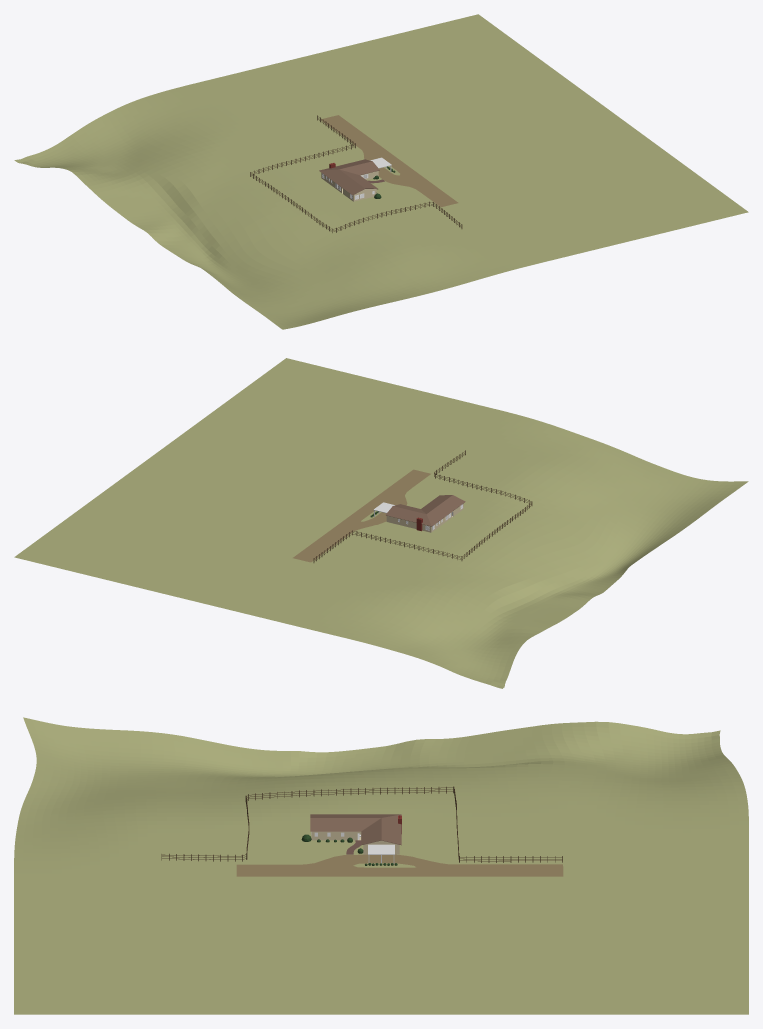
File: house_test02.glb
3 views of the same model, one above another, from view 1: azimuth 30°, elevation 25°; view 2: azimuth 150°, elevation 25°; view 3: azimuth 270°, elevation 25° (orthographic). The views are drawn at different scales.
Parts seen in each view (by area): view 1: Ground, Road, BézierCurve, Roof; view 2: Ground, Road, BézierCurve, Roof; view 3: Ground, Road, Roof, BézierCurve, Walls.
Part boxes in pixels (<box>): Ground: <box>14,14,748,329</box>; Road: <box>321,115,458,207</box>; BézierCurve: <box>250,115,462,232</box>; Roof: <box>319,159,379,195</box>; Ground: <box>14,358,748,688</box>; Road: <box>293,469,430,562</box>; BézierCurve: <box>313,450,532,562</box>; Roof: <box>385,495,465,526</box>; Ground: <box>14,717,748,1014</box>; Road: <box>236,854,563,876</box>; Roof: <box>310,814,401,845</box>; BézierCurve: <box>161,786,562,862</box>; Walls: <box>311,815,401,854</box>.
Size of what is drawn, in the model's own units: 203 by 17.76 by 200.
